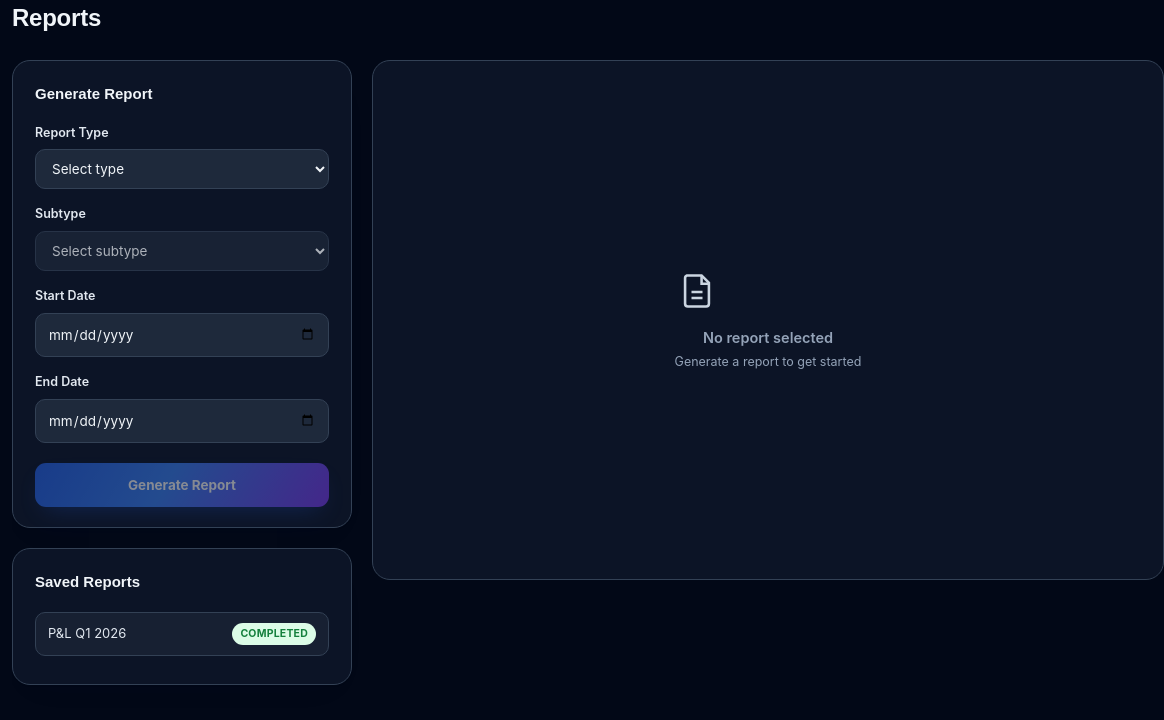
it: FinlyHubReports › renders stat cards without a chart when chartConfig.labels is null
Click the text "P&L Q1 2026".
click(87, 634)  # box [48, 624, 126, 643]
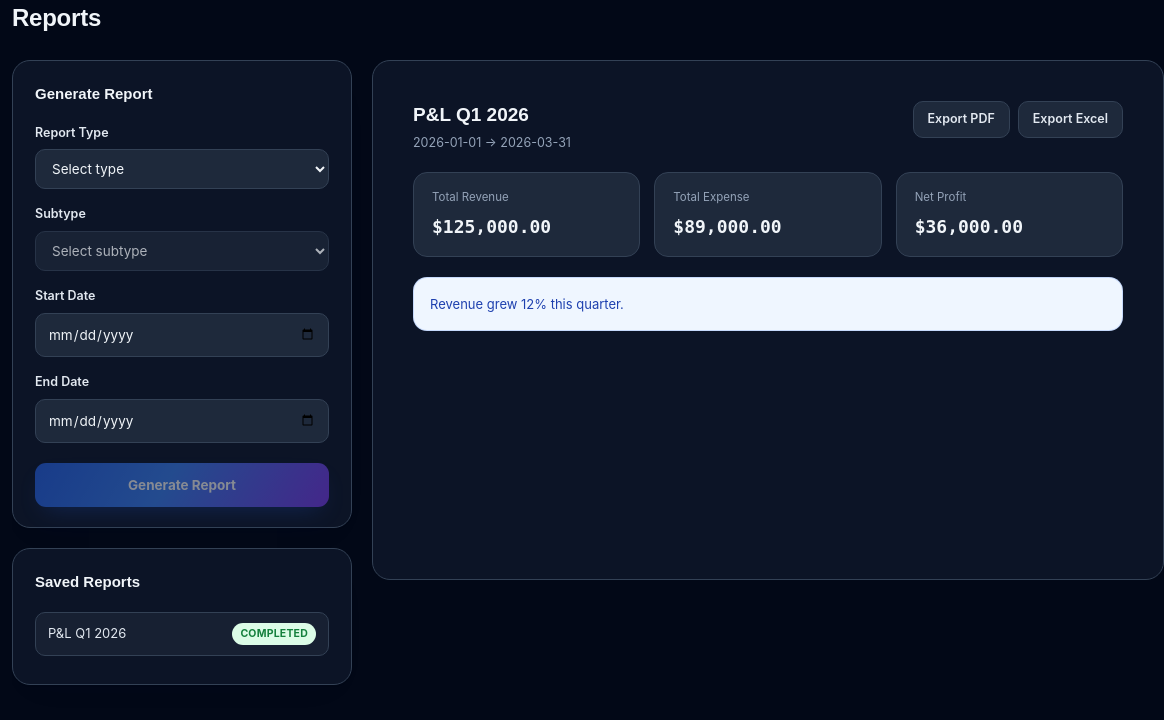
expect the text "Total Revenue" is shown: met, box [432, 190, 509, 204]
expect the text "Total Expense" is shown: met, box [673, 190, 750, 204]
expect the text "Net Profit" is shown: met, box [915, 190, 966, 204]
